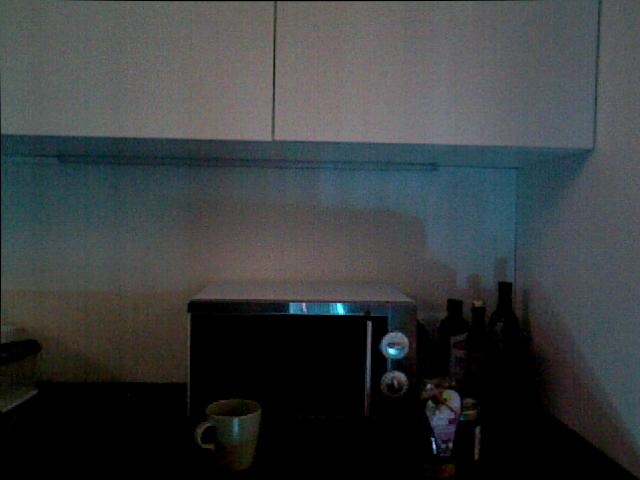bench: (419, 370, 465, 478), (437, 297, 469, 380), (488, 280, 521, 358)
handbag: (194, 398, 261, 471)
knife: (185, 277, 419, 424)
